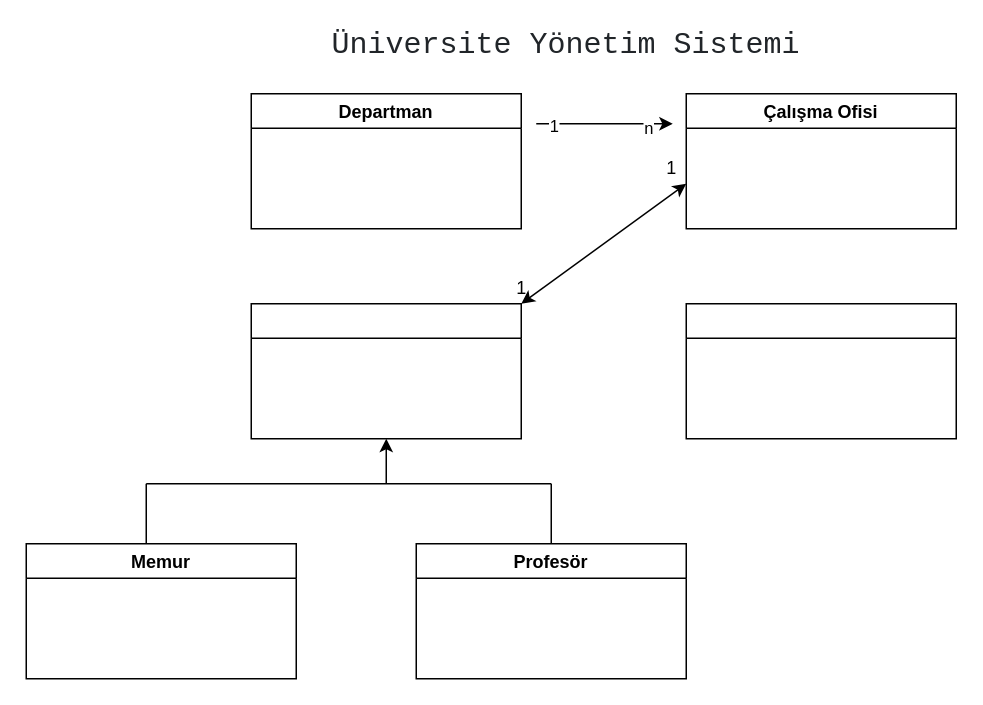
Some shapes in this 983 by 705 pixel diagram are drawn without their labels. Here are the shapes that lost their labels. From the top down, the centre of each, then its label:
the point at 385,370: Çalışan
the point at 820,370: Sınıflar
